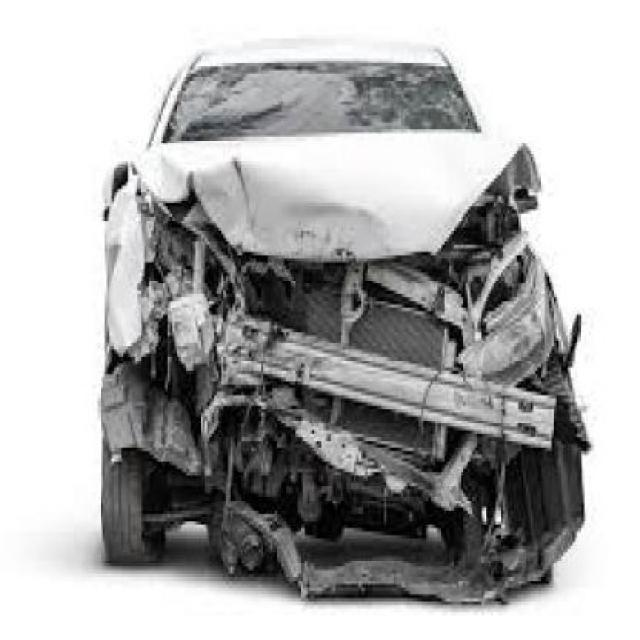damaged-front-bumper: (146, 370, 574, 548)
